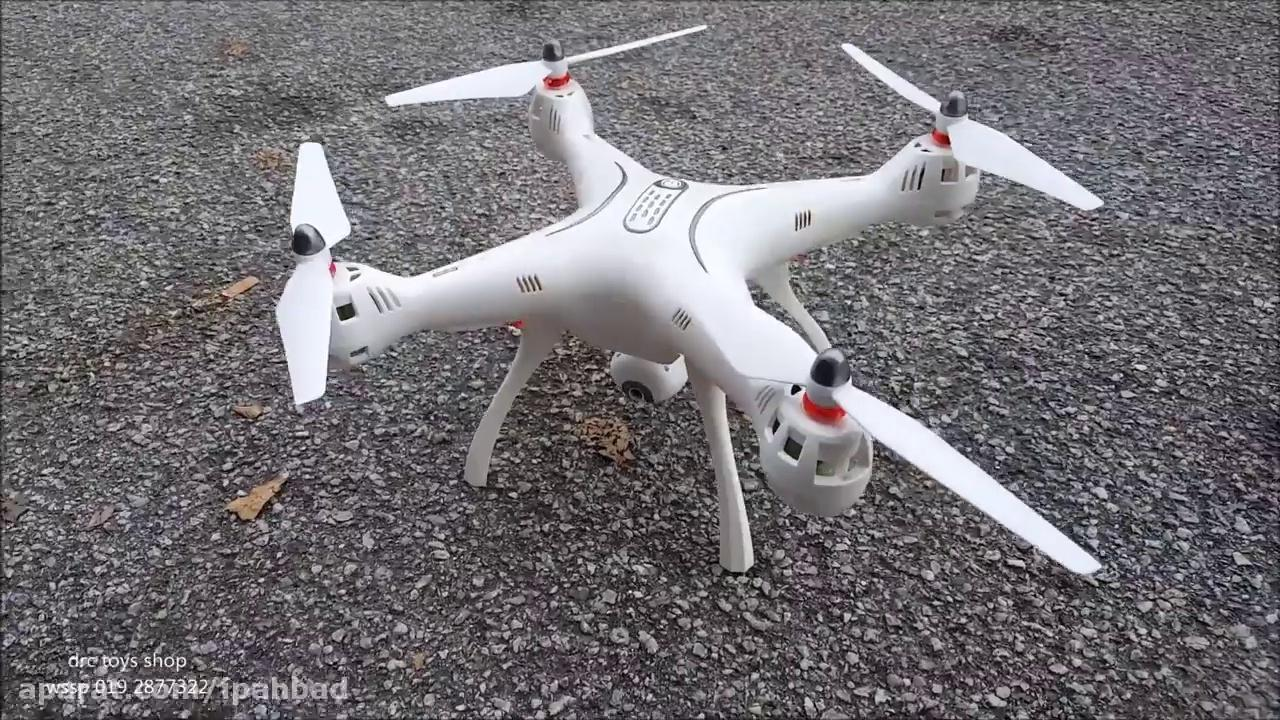drone: (271, 19, 1113, 581)
